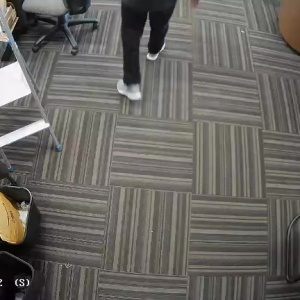person: (110, 0, 187, 101)
